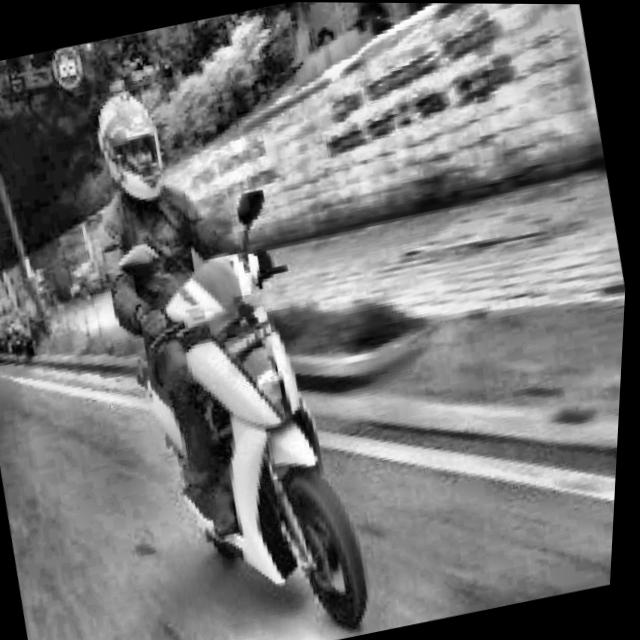motorcycle: (81, 168, 404, 640)
